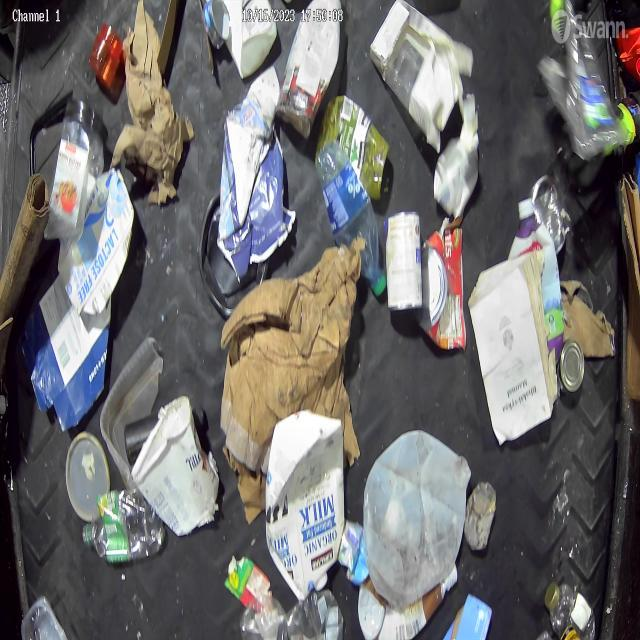can: (420, 226, 470, 350), (385, 206, 425, 311), (556, 336, 583, 400)
plastic_bottle: (363, 431, 466, 604), (315, 134, 387, 292), (84, 492, 162, 560)
